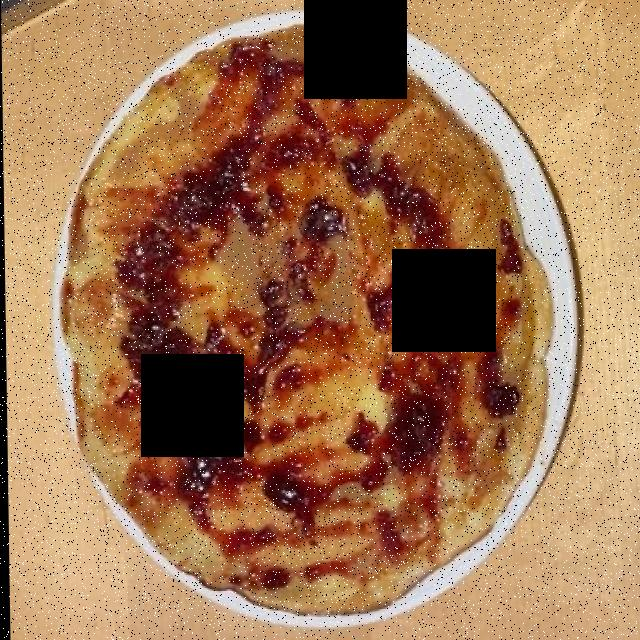butter-spread-puree-almond: (228, 193, 363, 335)
crepe-plain: (63, 48, 531, 603)
jam: (100, 39, 493, 551)
